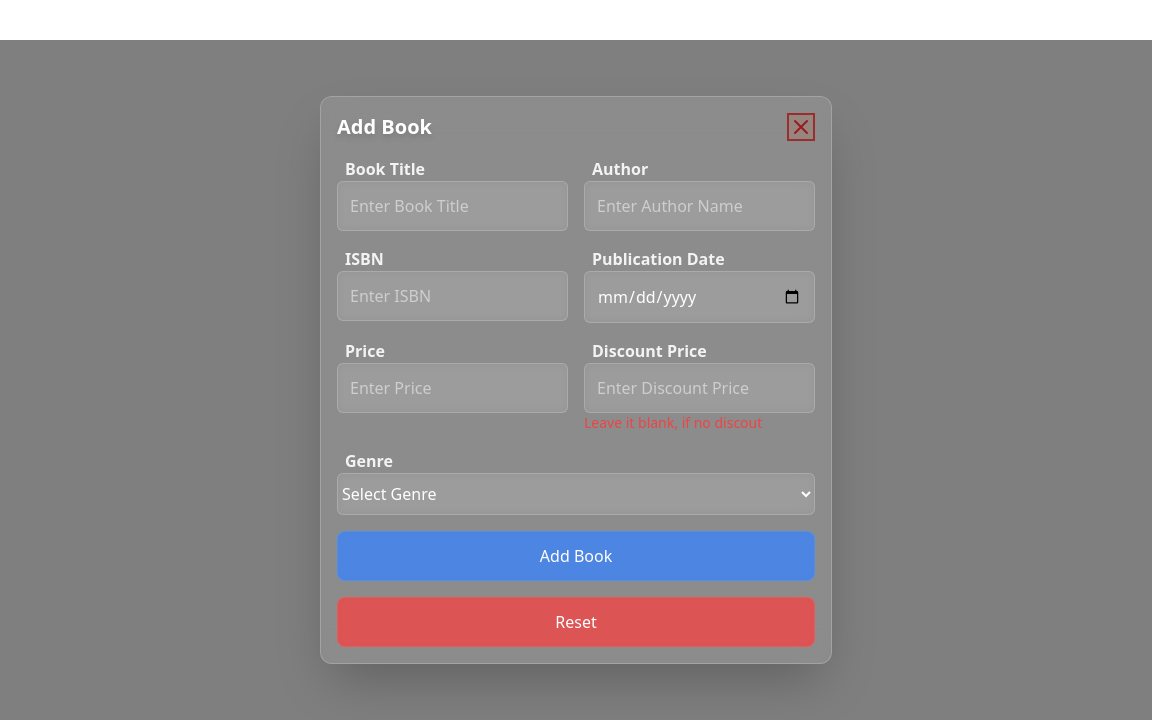
AddBookModal Component › should reset form and clear all fields when reset button is clicked
In the field with test id "form-title": (452, 206) [337, 181, 568, 231], type "Test Book"
In the field with test id "form-author": (700, 206) [584, 181, 815, 231], type "Test Author"
Select "Fiction" in the dropdown with test id "form-genre": (576, 494) [337, 473, 815, 515]
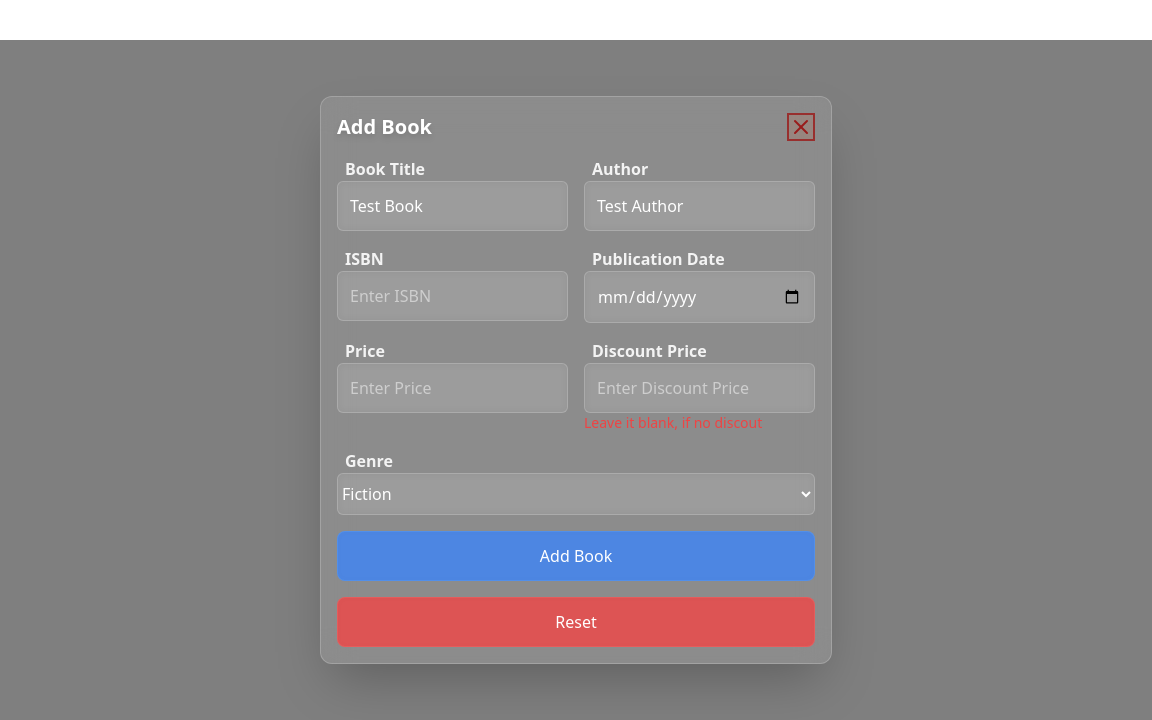
In the field with test id "form-isbn": (452, 296) [337, 271, 568, 321], type "1234567890"
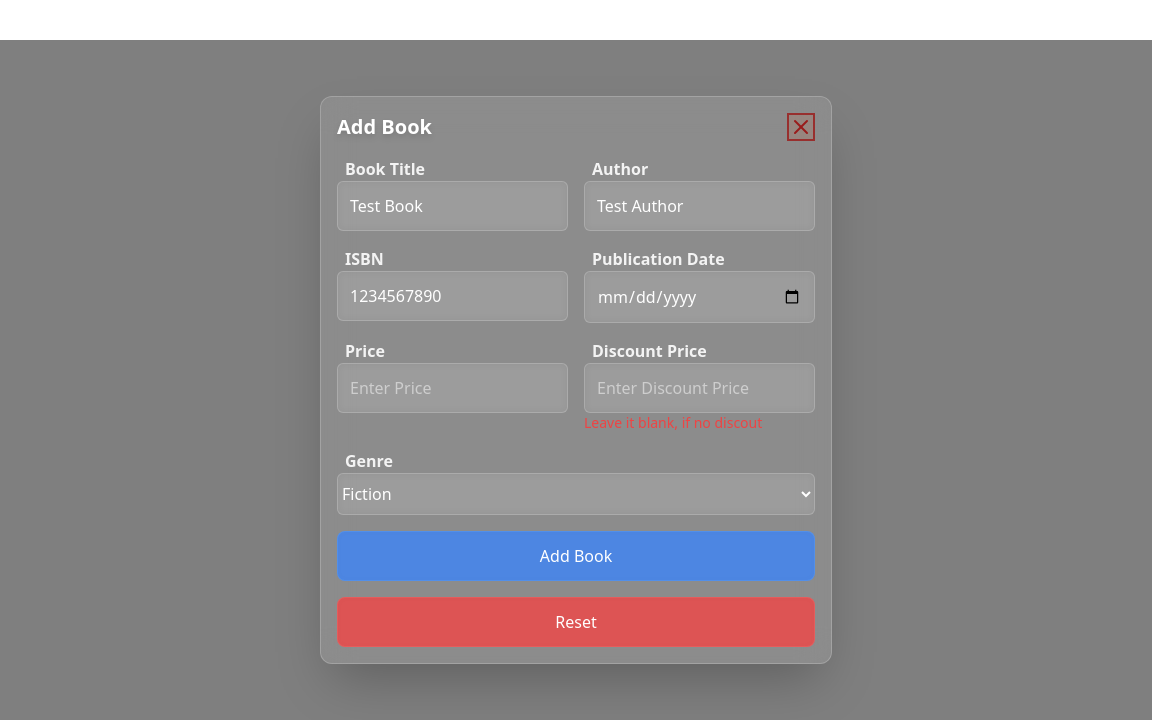
In the date field with test id "form-publicationDate": (700, 297) [584, 271, 815, 323], type "2023-05-15"
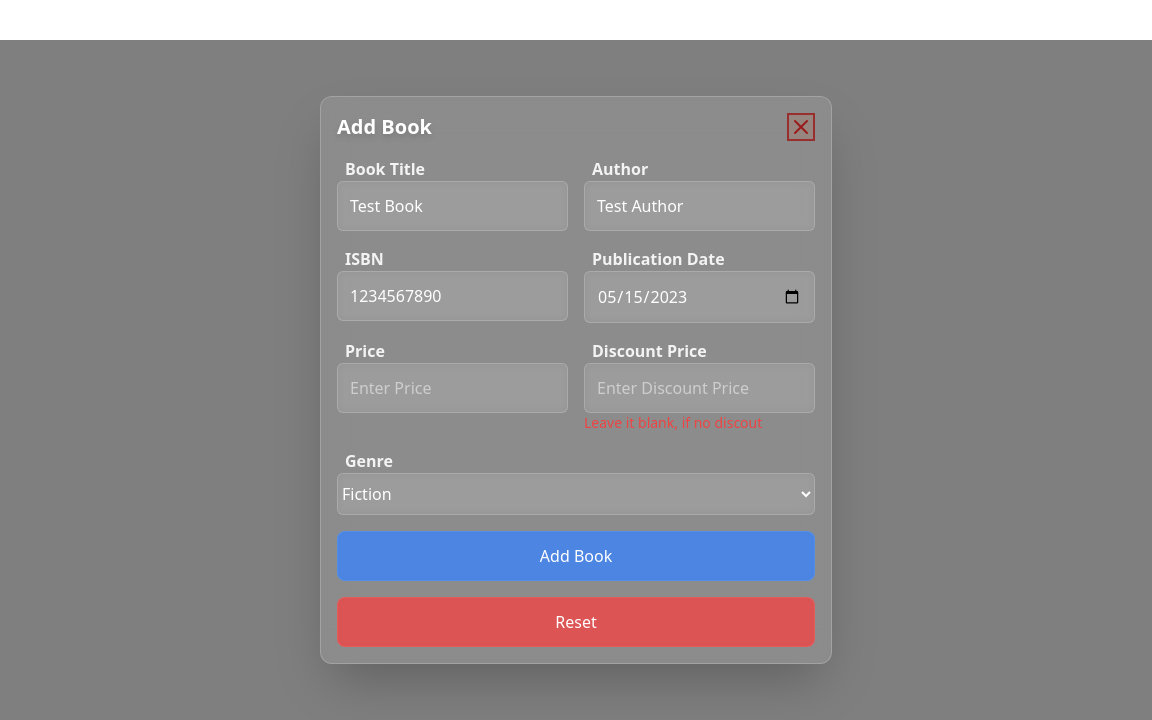
In the number field with test id "form-price": (452, 388) [337, 363, 568, 413], type "20"
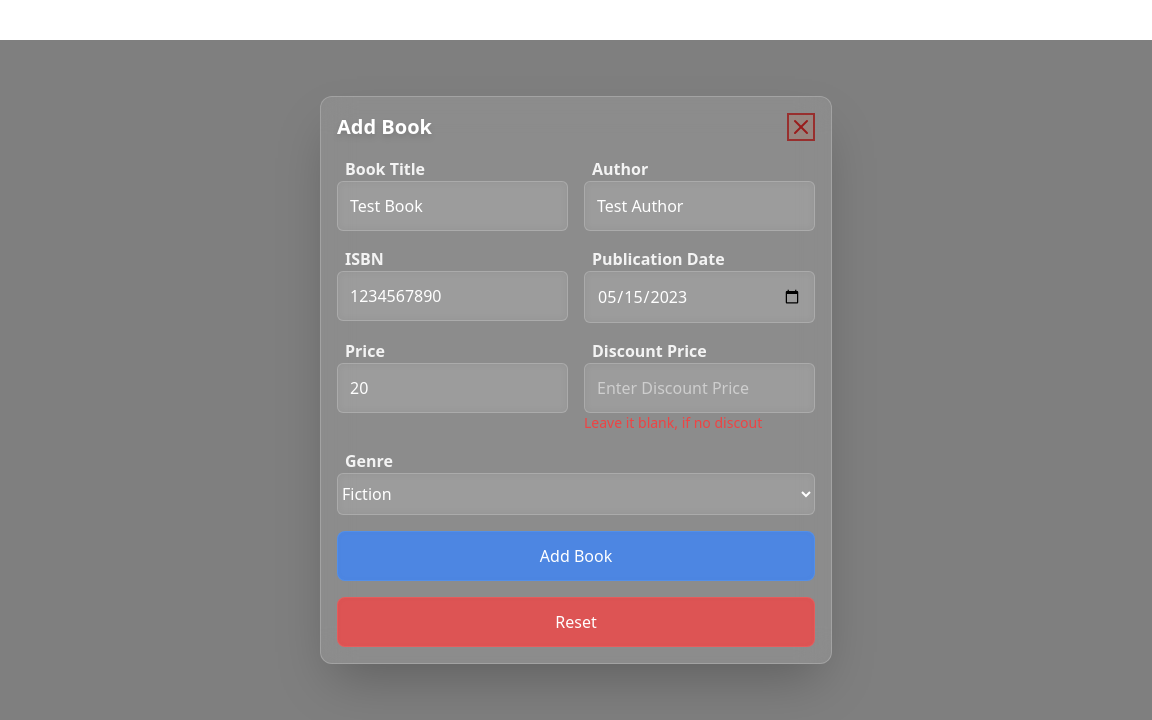
In the number field with test id "form-discoutPrice": (700, 388) [584, 363, 815, 413], type "15"
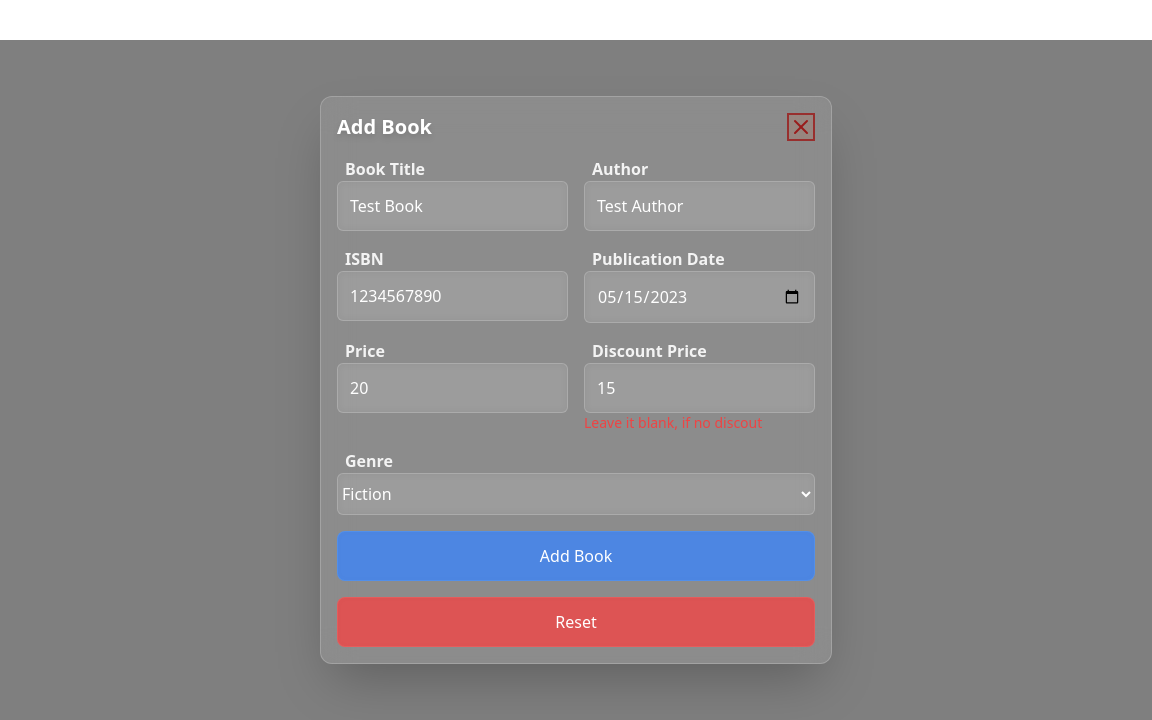
Click the button "Reset": click(576, 622) [337, 597, 815, 647]
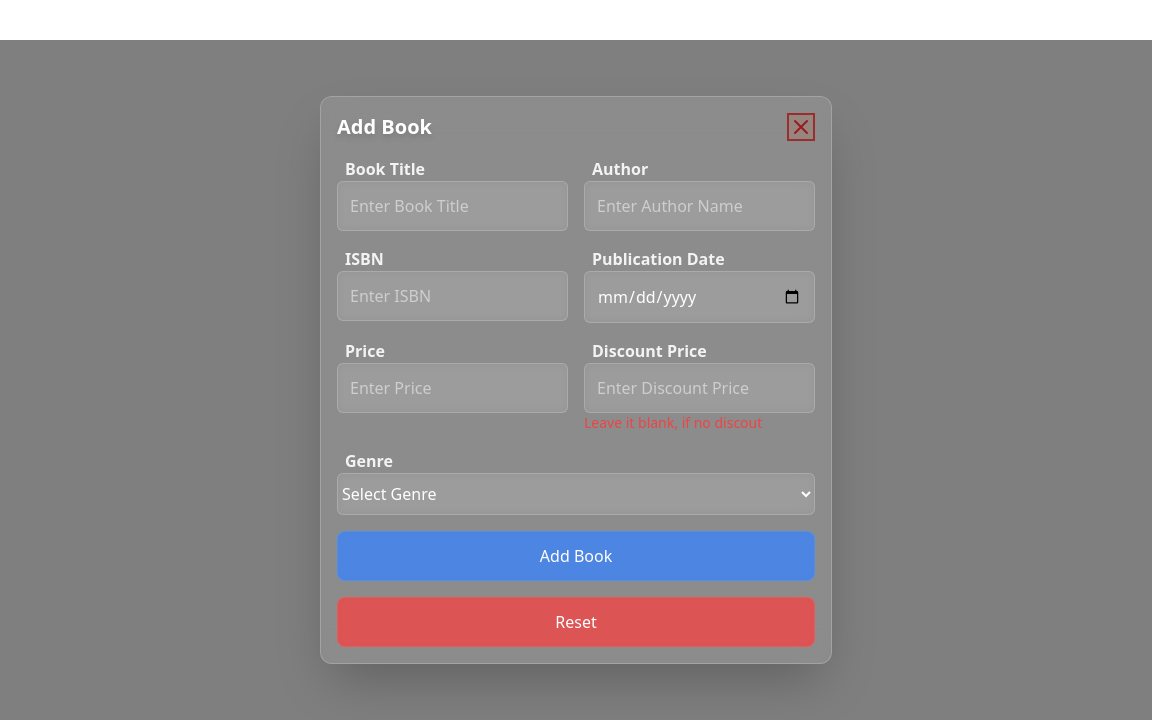
Expected: the field with test id "form-title" is empty, [337, 181, 568, 231]
Expected: the field with test id "form-author" is empty, [584, 181, 815, 231]
Expected: the field with test id "form-isbn" is empty, [337, 271, 568, 321]
